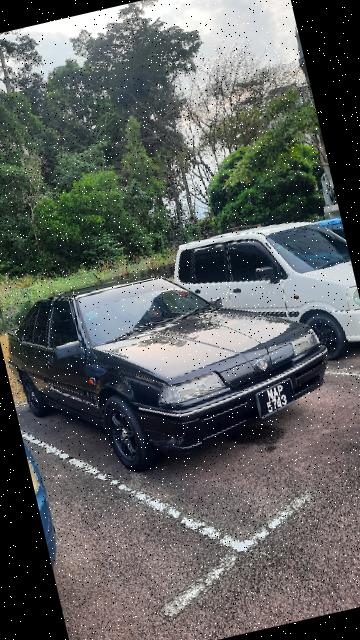License_Plate: (253, 377, 302, 422)
car: (1, 237, 347, 491)
